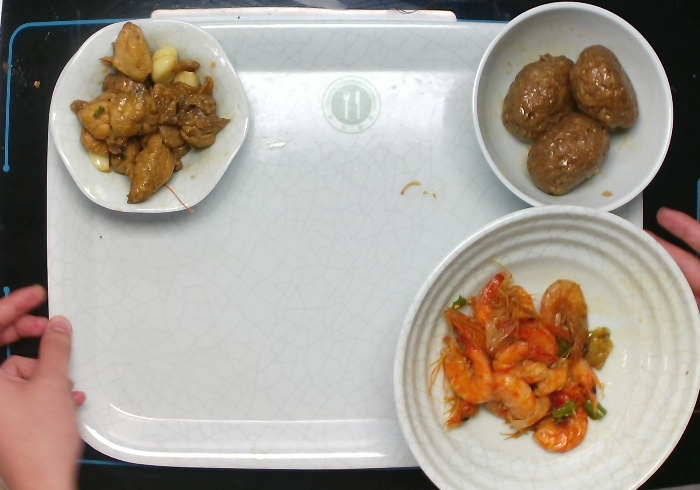JYsf-Da_Tang_Wan: (389, 203, 700, 490)
JYsf-Fan_Wan: (468, 1, 677, 214)
WCQzf-Hua_Duo_Wan: (46, 15, 254, 217)
